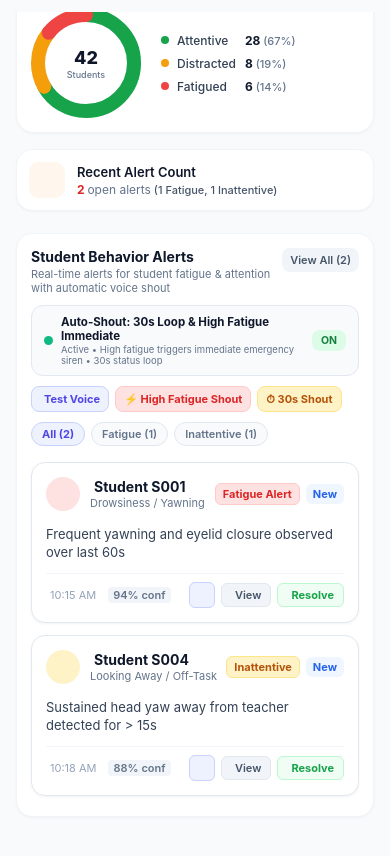
it: Student Behavior Alerts & Voice Speech on Mobile Dashboard › filters behavior alerts when filter chips are pressed
The width and height of the screenshot is (390, 856).
(page scrolled)
Expected: the text "Student S001" is shown, [94, 478, 185, 495]
Expected: the text "Student S004" is shown, [94, 651, 189, 668]
Filter by Fatigue
Step 1. Click the element with test id "filter-chip-fatigue" → (130, 434), box [91, 422, 168, 446]
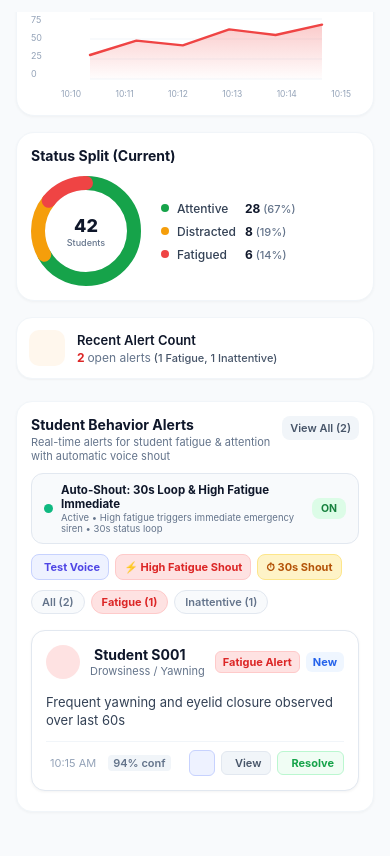
Expected: the text "Student S001" is shown, [94, 646, 185, 663]
Now the text "Student S004" is gone
Filter by Inattentive
Step 2. Click the element with test id "filter-chip-distraction" → (221, 602), box [174, 590, 268, 614]
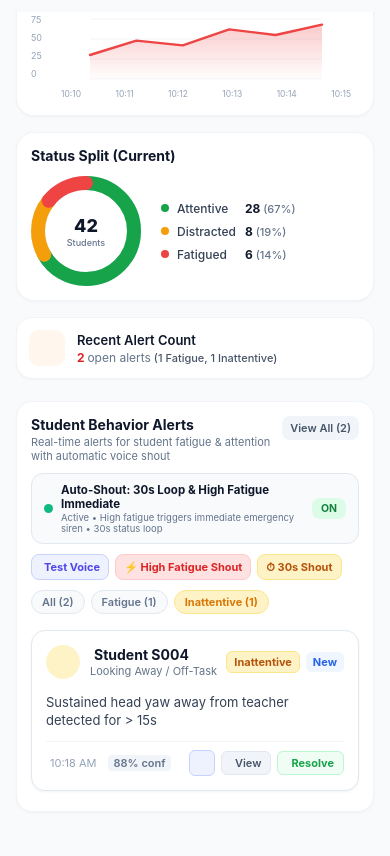
Now the text "Student S004" is shown, box [94, 646, 189, 663]
Now the text "Student S001" is gone
